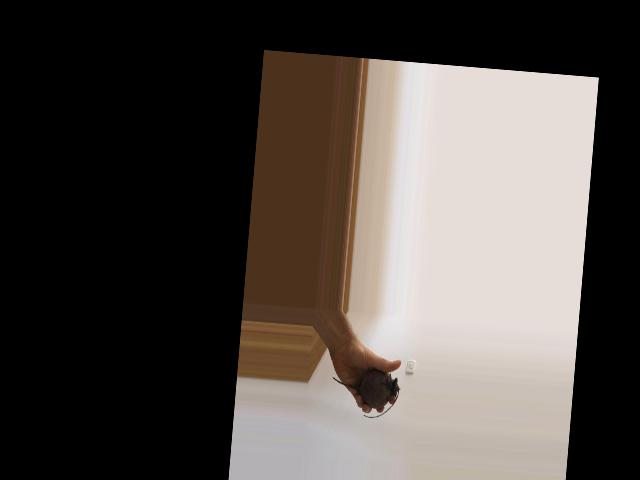beet: (329, 367, 401, 420)
